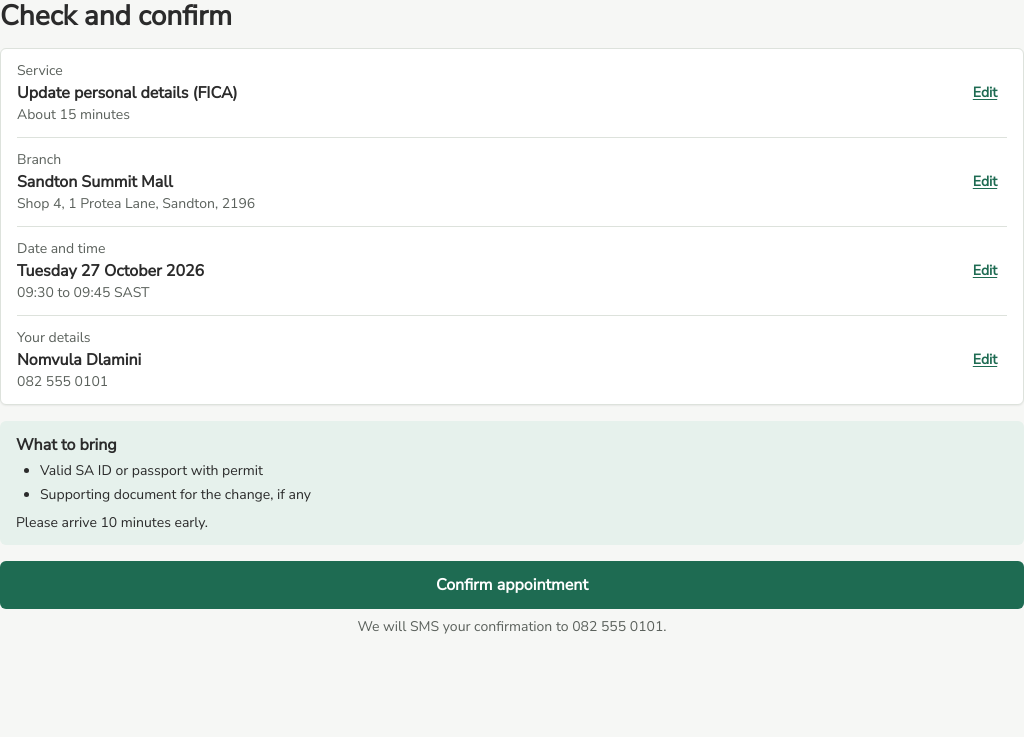
ReviewStep › sends a refused detail back to its field on the details step
Step 1. Click the button "Confirm appointment" → point(512, 585), box [0,561,1023,609]
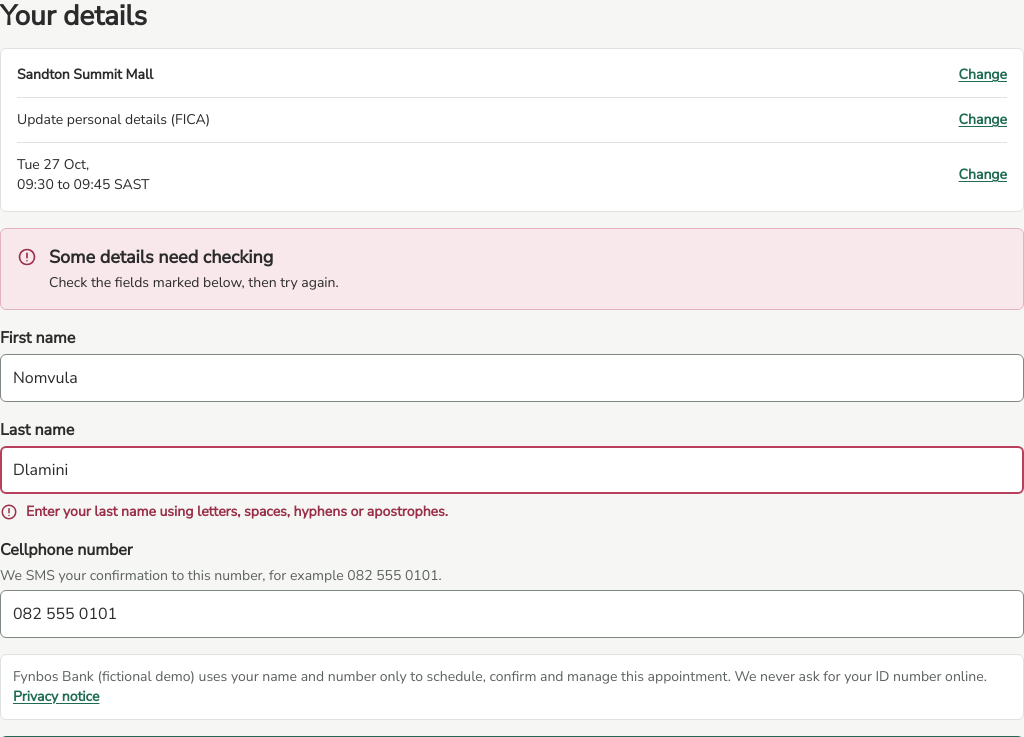
expect the message shows "Some details need checking": met, box [49,245,273,269]
